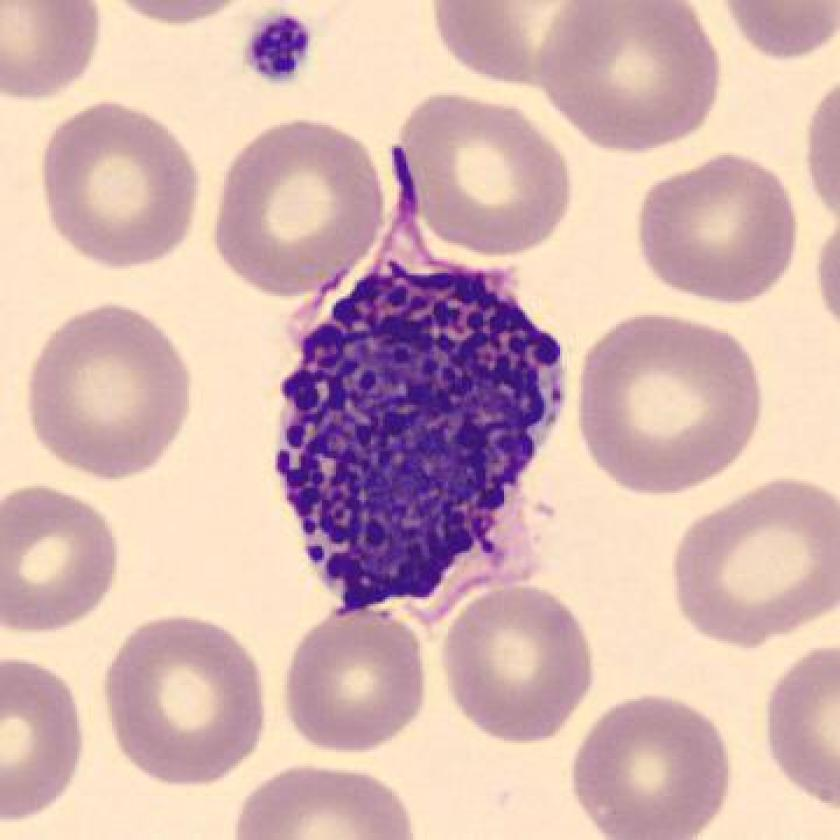basophil: (277, 253, 564, 610)
